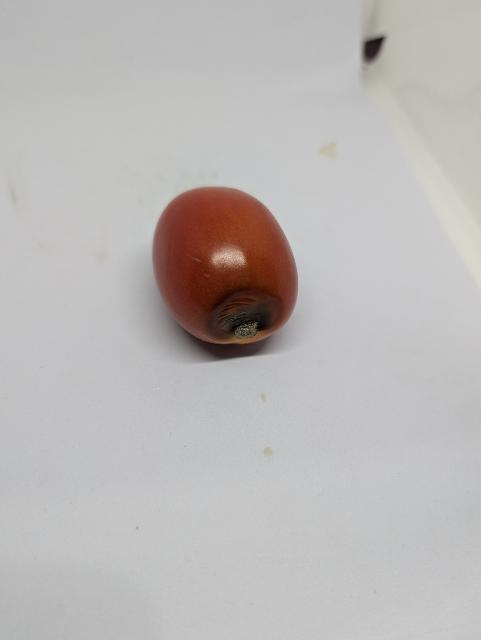defect: (149, 183, 302, 348)
